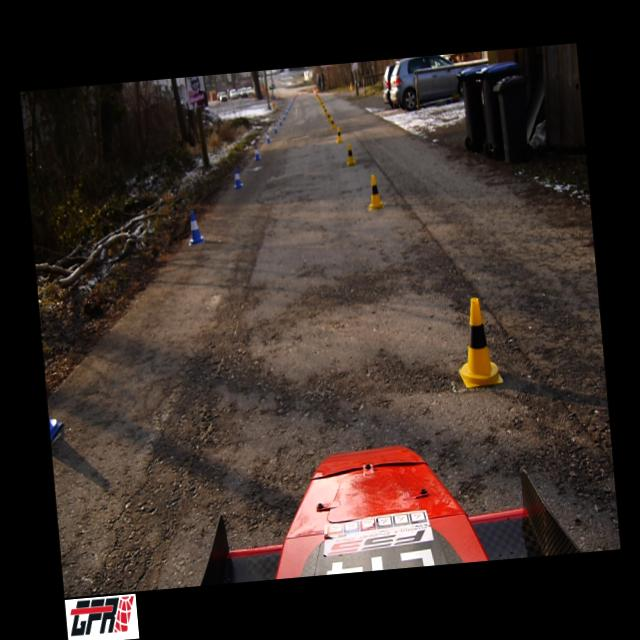blue_cone: (186, 209, 203, 245), (232, 167, 243, 188), (252, 144, 260, 160), (265, 130, 270, 142), (272, 123, 278, 132), (278, 116, 282, 125), (282, 112, 285, 119)
yellow_cone: (452, 296, 503, 388), (366, 173, 383, 210), (344, 143, 354, 165), (336, 126, 342, 142), (330, 116, 335, 128), (326, 112, 331, 121), (324, 107, 327, 114)
